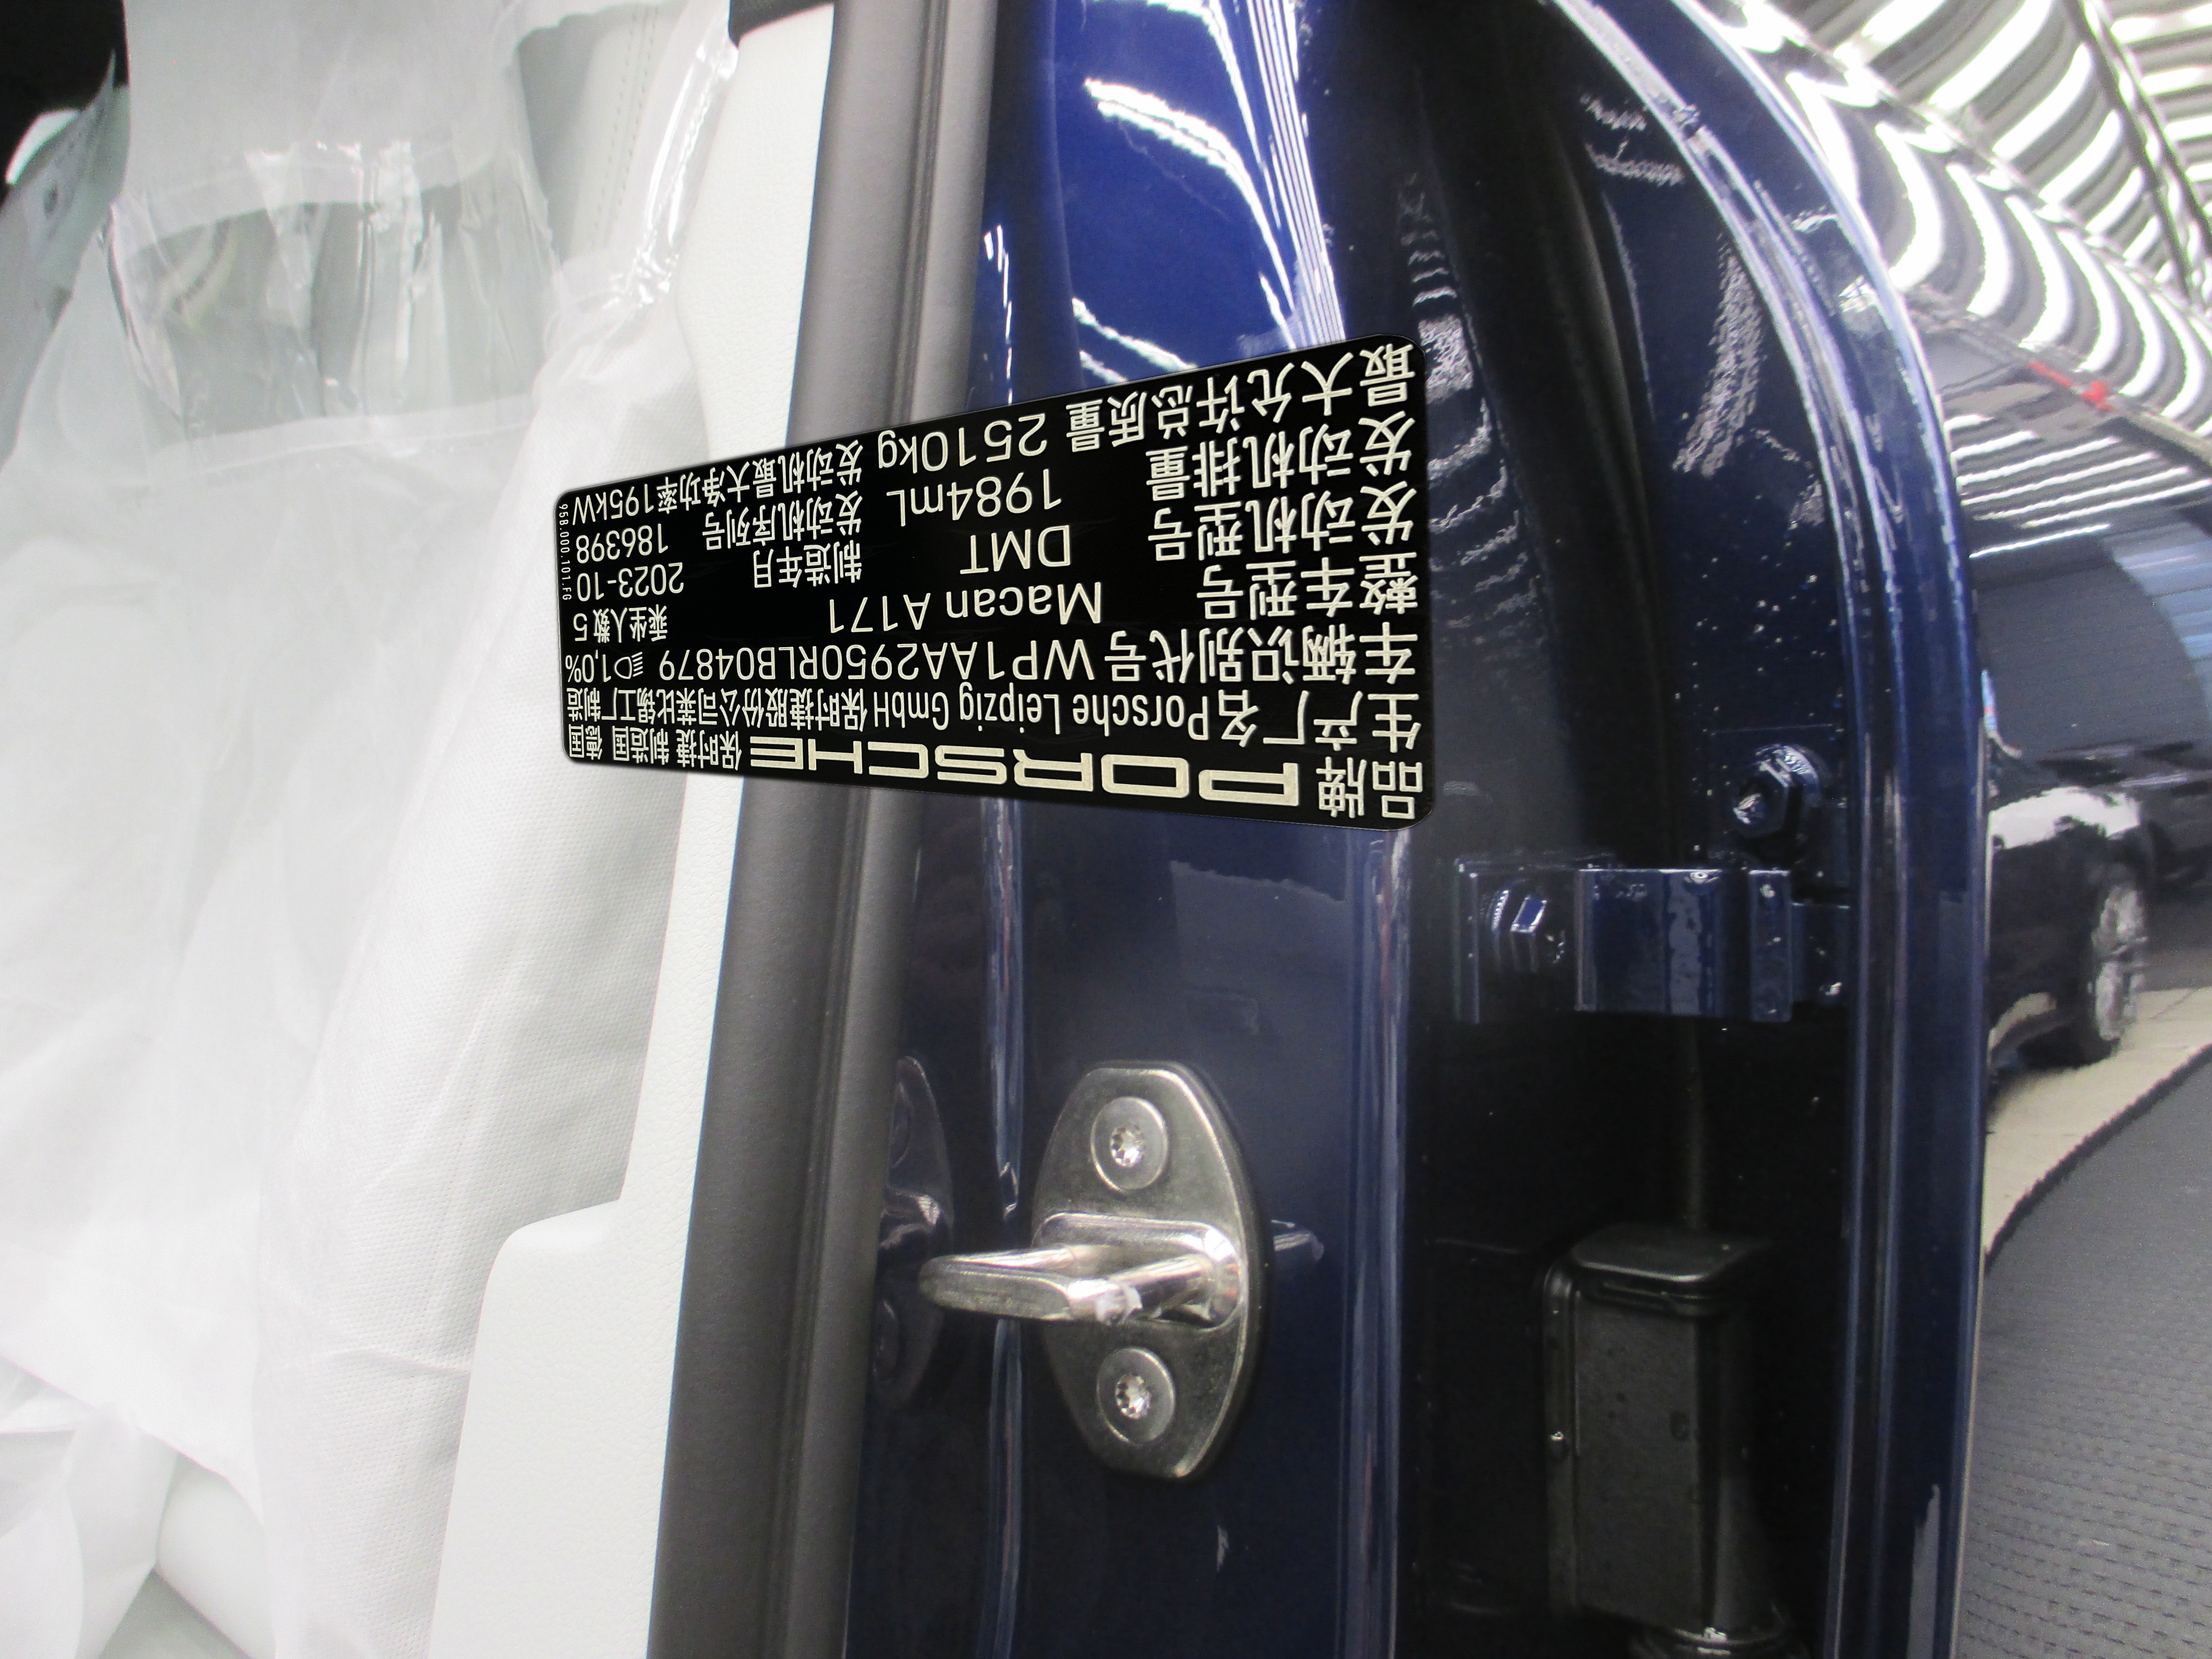Typlabel-China: (554, 335, 1433, 831)
